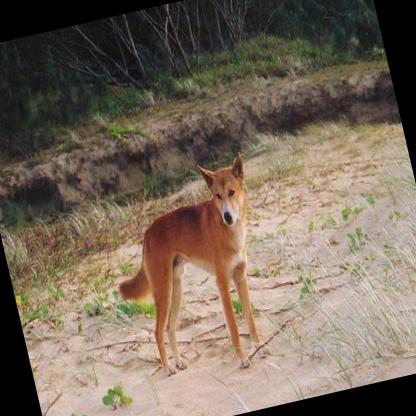dingo: (90, 146, 290, 395)
